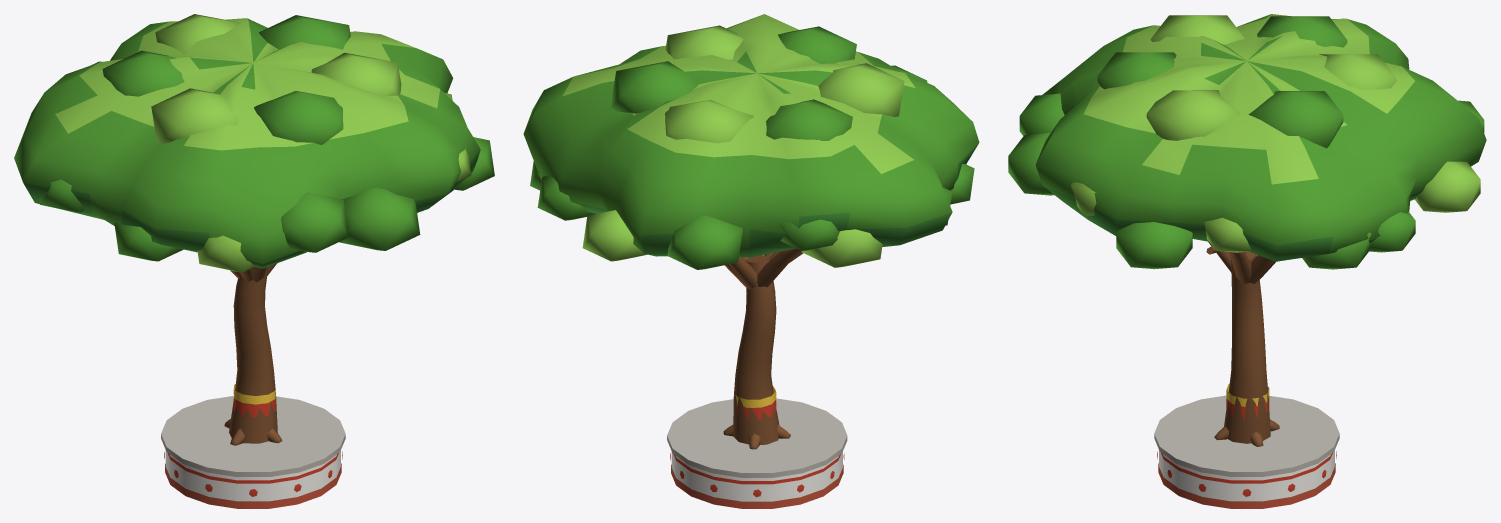
Rendered from growth_neem.glb.
3 views of the same model, side by side, from view 1: azimuth 30°, elevation 25°; view 2: azimuth 150°, elevation 25°; view 3: azimuth 270°, elevation 25° (orthographic). The views are drawn at different scales.
Parts seen in each view (by area): view 1: growth_neem; view 2: growth_neem; view 3: growth_neem.
Boxes of the visible parts, x1,y1,x2,y2 form: growth_neem: (14,14,494,508); growth_neem: (523,14,979,508); growth_neem: (1008,14,1486,508).
Size of the model in its own units: 5.38 by 4.98 by 5.16.
1 material, 1 textured.
